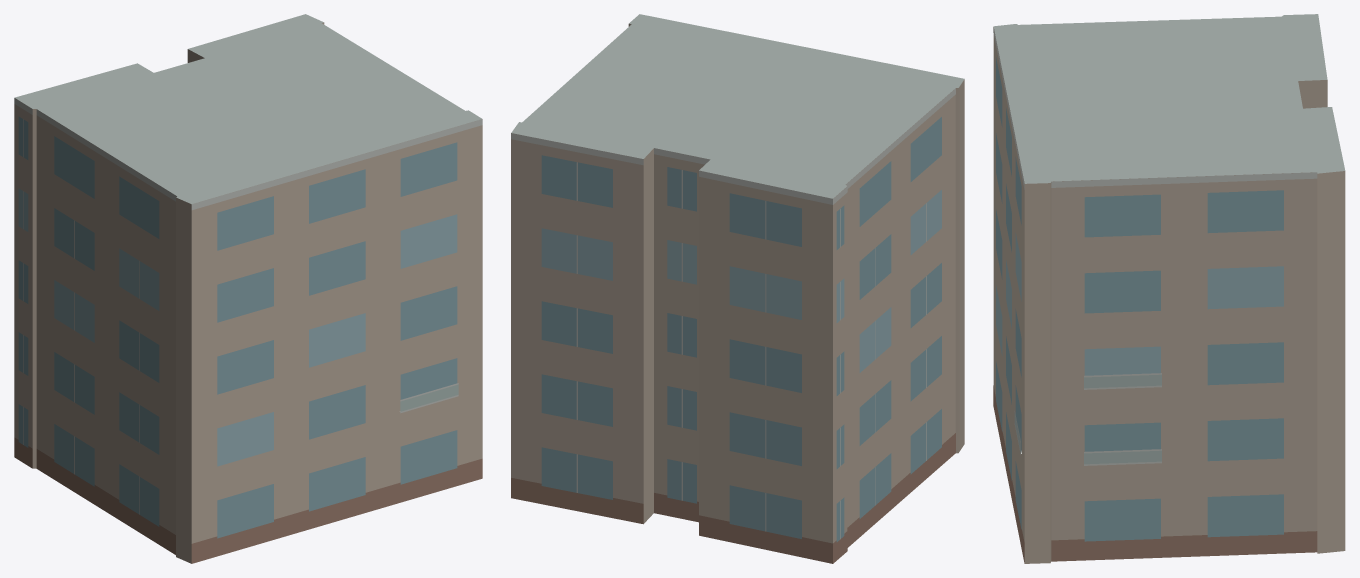
File: survey-upis-33009030.glb
3 renders of one model, left to right at view 1: azimuth 30°, elevation 25°; view 2: azimuth 150°, elevation 25°; view 3: azimuth 270°, elevation 25°, orthographic. The views are drawn at different scales.
Parts seen in each view (by area): view 1: survey-upis-33009030.tmp; view 2: survey-upis-33009030.tmp; view 3: survey-upis-33009030.tmp.
Part boxes in pixels (x1,y1,x2,y2): survey-upis-33009030.tmp: [14, 14, 482, 563]; survey-upis-33009030.tmp: [511, 14, 964, 563]; survey-upis-33009030.tmp: [993, 14, 1345, 563].
Bounding box in the file's own units: 13.71 × 14.3 × 12.01.
